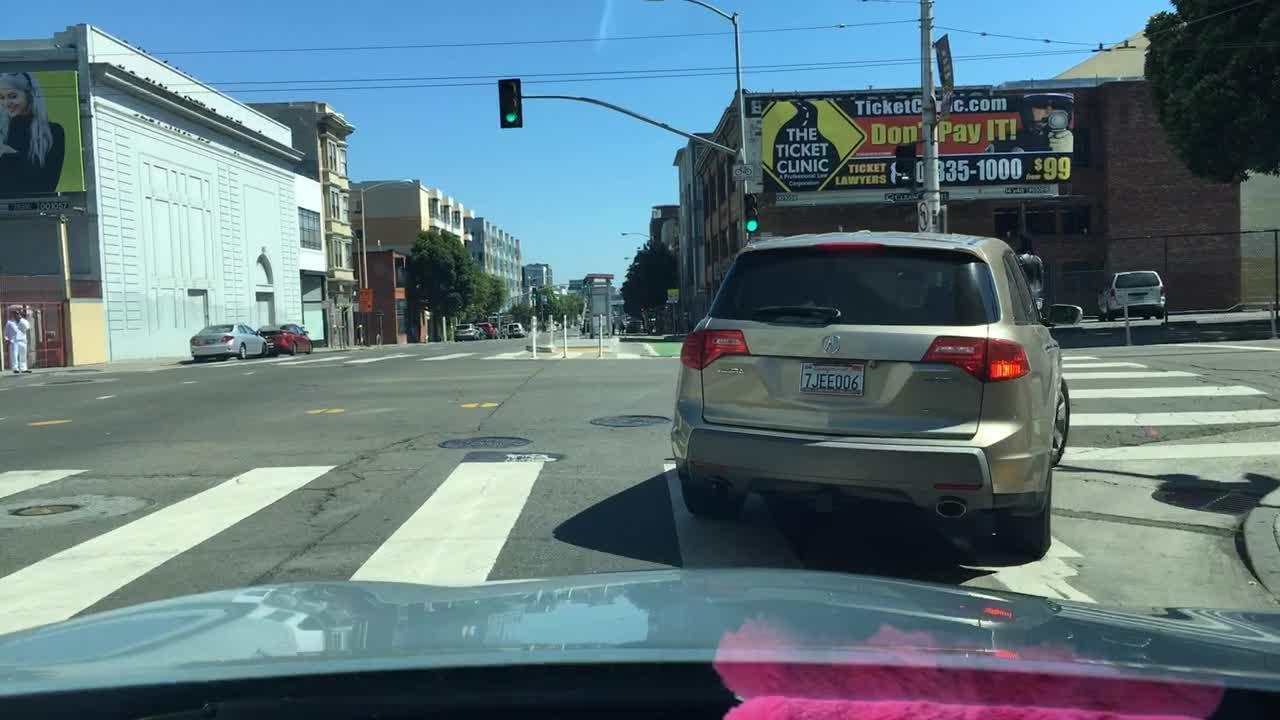acura: (819, 334, 844, 355)
